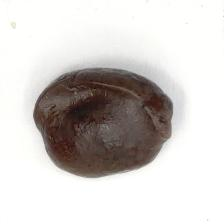NG: (60, 75, 167, 146)
